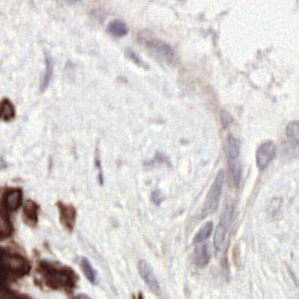Lymphocyte: (24, 199, 43, 222)
